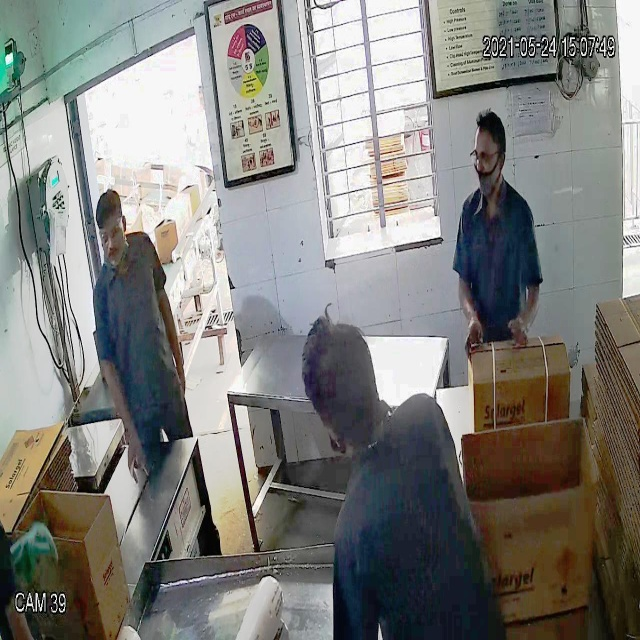Gafas: (468, 143, 506, 173), (94, 220, 127, 247)
